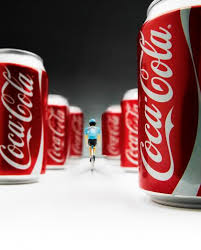can: (144, 11, 201, 206), (2, 38, 48, 182)
